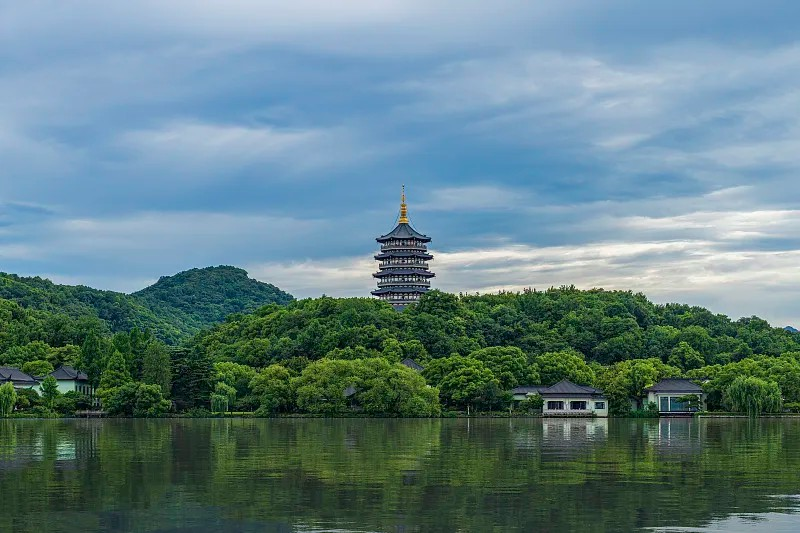Leifeng: (371, 183, 437, 314)
